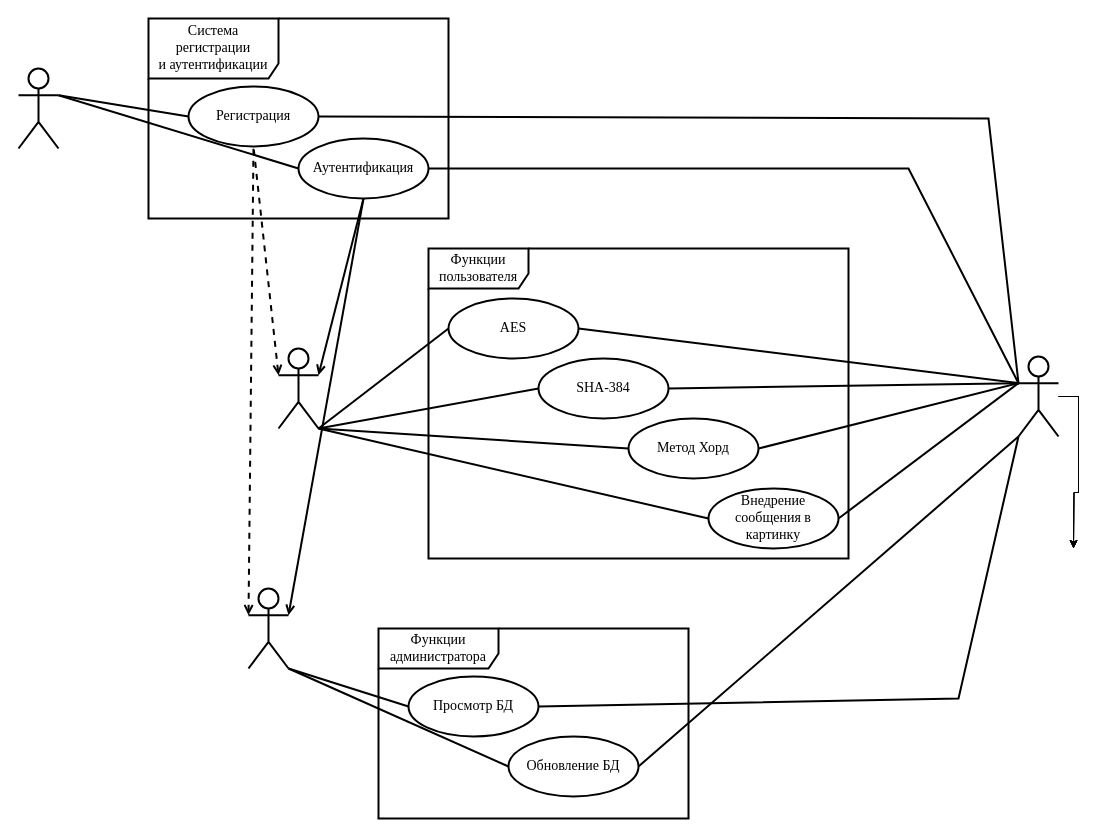
The diagram is 1104 pixels wide and 836 high, and some of its shapes have lost their labels. Each missing label, with the centre of its shape:
"Админ" goes at pixel 268 628.
"Гость" goes at pixel 38 108.
"Пользователь" goes at pixel 298 388.
"Сервер" goes at pixel 1038 396.
